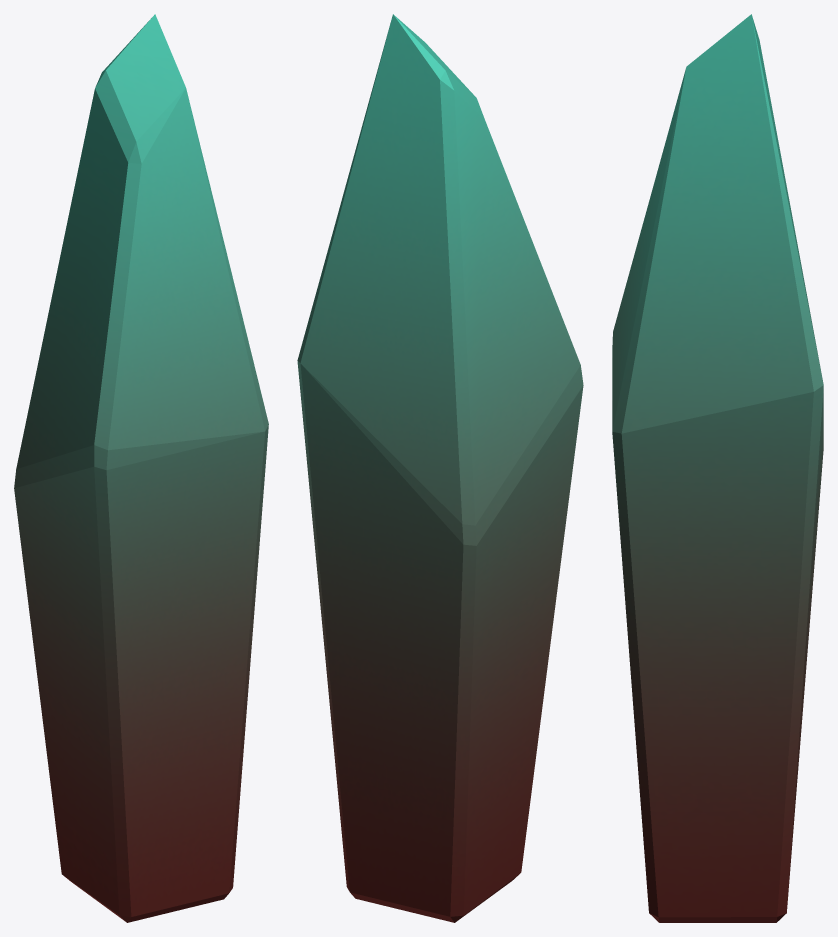
Rendered from Crystal_large.FBX.
The picture shows the model from 3 angles, left to right: view 1: azimuth 30°, elevation 25°; view 2: azimuth 150°, elevation 25°; view 3: azimuth 270°, elevation 25°; orthographic projection. The views are drawn at different scales.
Visible parts, largest first — view 1: Crystal_large; view 2: Crystal_large; view 3: Crystal_large.
Boxes of the visible parts, x1,y1,x2,y2 form: Crystal_large: (14,14,268,922); Crystal_large: (297,14,583,922); Crystal_large: (612,14,823,922).
Bounding box in the file's own units: 2.57 × 11.3 × 2.42.
